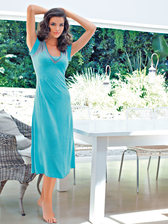clothoes: (29, 34, 83, 181)
